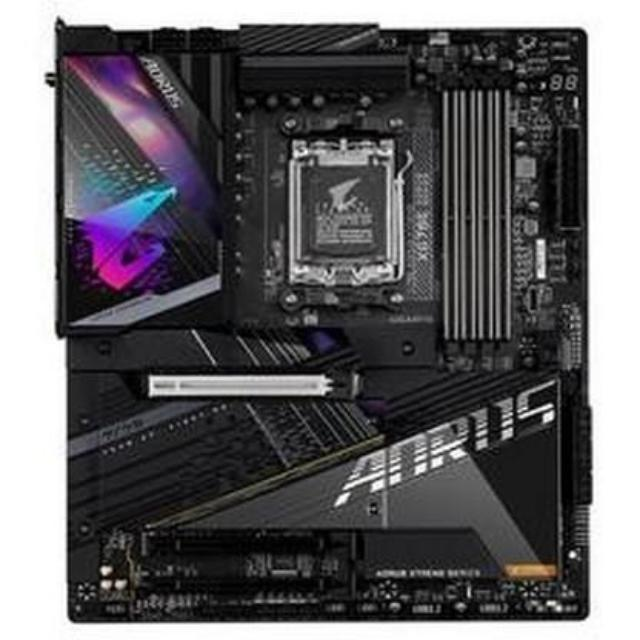Mainboard: (41, 10, 599, 630)
